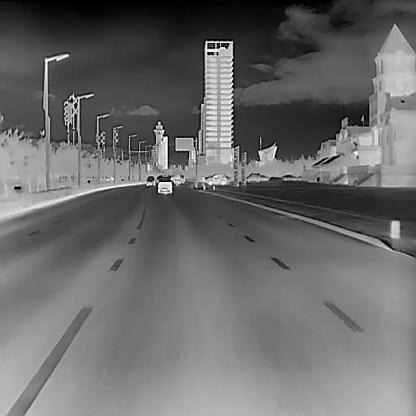car: (205, 173, 230, 186), (156, 176, 172, 194), (282, 172, 298, 180), (146, 175, 154, 186)
